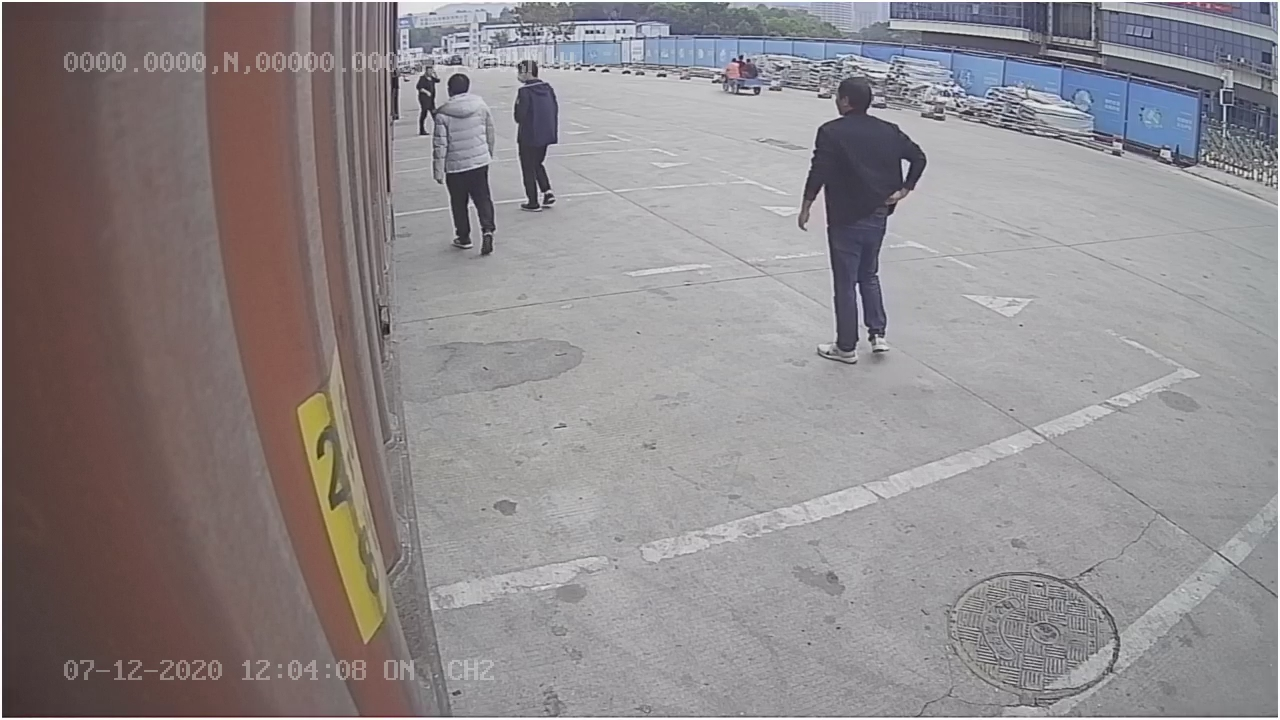person: (795, 79, 931, 372)
